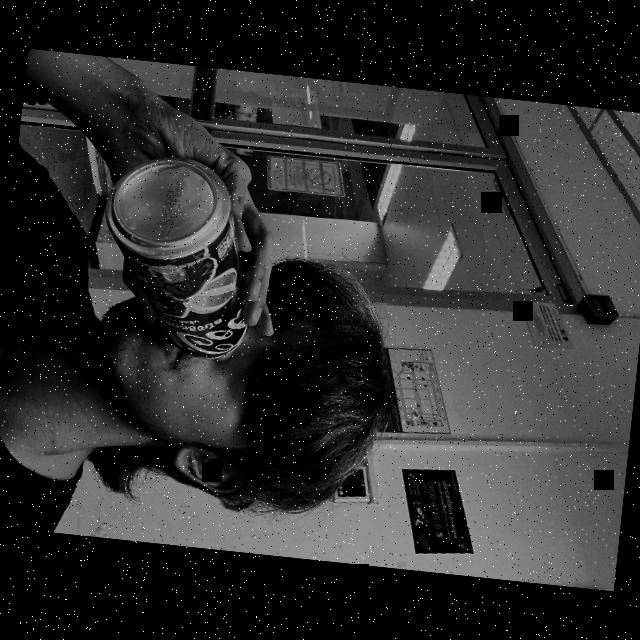can: (86, 150, 272, 380)
